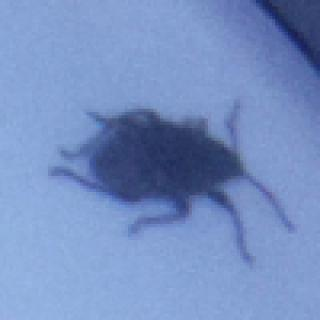bvw: (47, 97, 297, 271)
